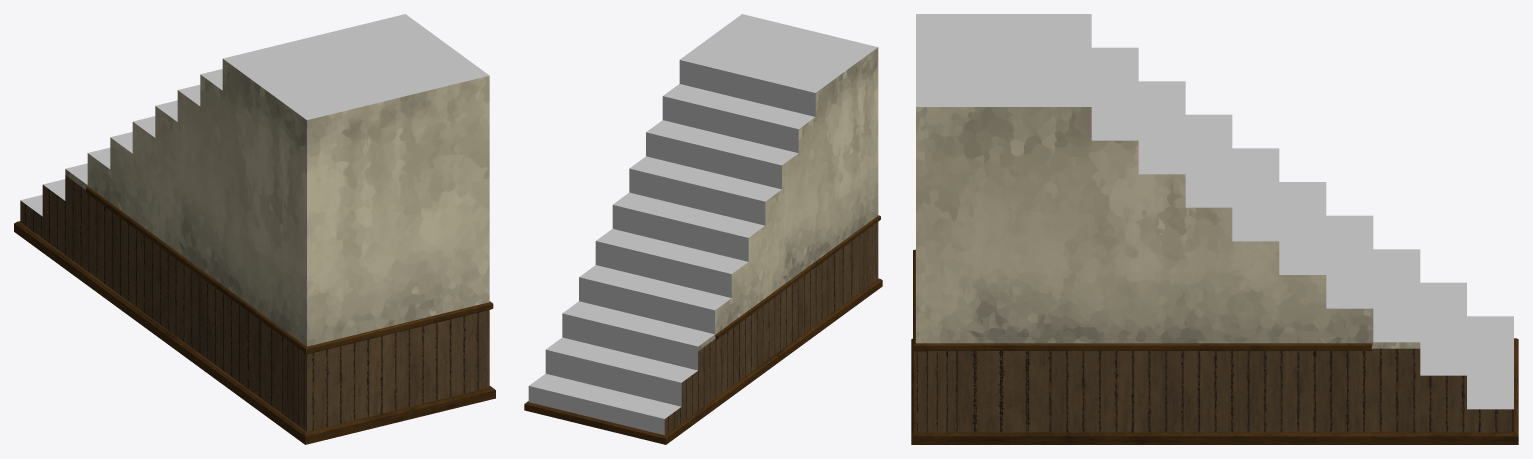
The model's file is Stairs.fbx.
The picture shows the model from 3 angles, left to right: view 1: azimuth 30°, elevation 25°; view 2: azimuth 150°, elevation 25°; view 3: azimuth 270°, elevation 25°; orthographic projection. The views are drawn at different scales.
Visible parts, largest first — view 1: Stairs; view 2: Stairs; view 3: Stairs.
Boxes of the visible parts, x1,y1,x2,y2 form: Stairs: [14, 14, 495, 444]; Stairs: [524, 14, 882, 444]; Stairs: [911, 14, 1518, 444].
Size of the model in its own units: 170 by 274 by 449.
